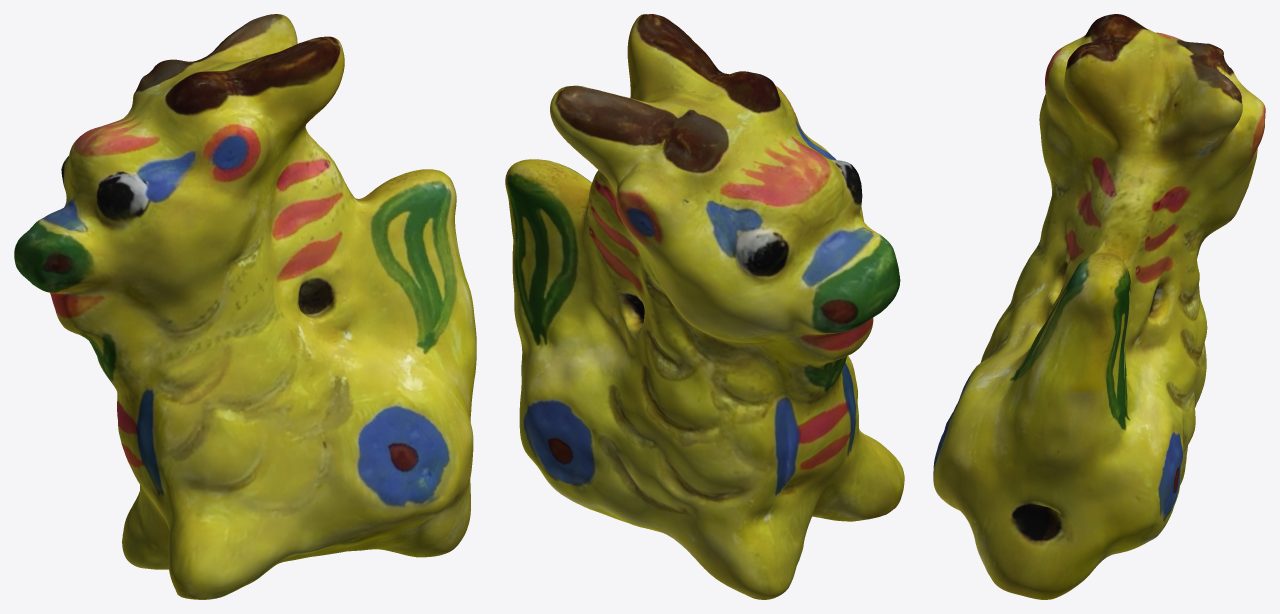
3 views of the same model, side by side, from view 1: azimuth 30°, elevation 25°; view 2: azimuth 150°, elevation 25°; view 3: azimuth 270°, elevation 25° (orthographic).
Bounding box in the file's own units: 0.3298 × 0.4031 × 0.2356.
1 material, 1 textured.
